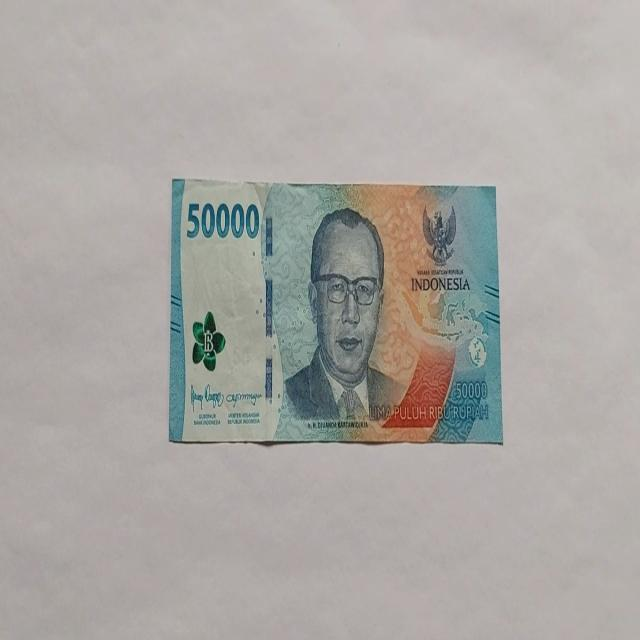lima puluh ribu rupiah: (168, 176, 502, 446), (276, 205, 406, 433)
